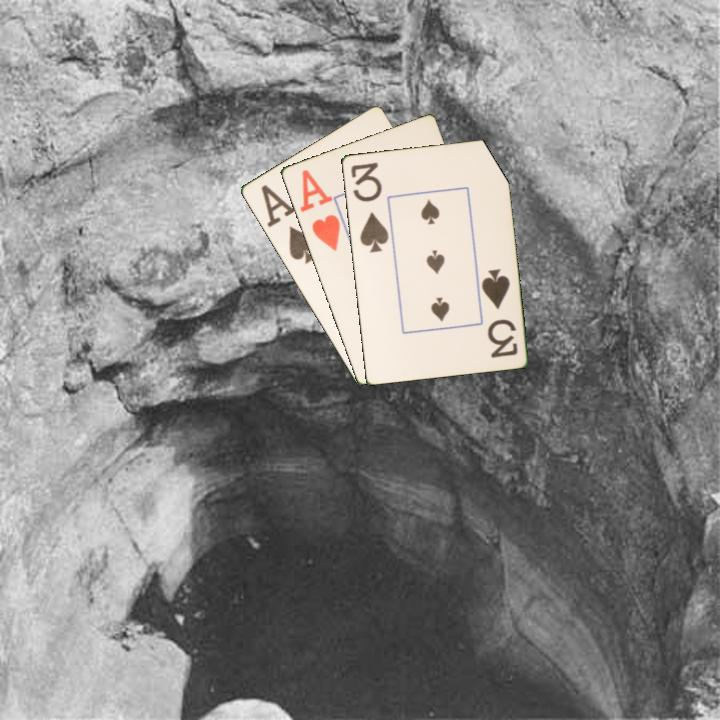3s: (347, 159, 391, 255), (477, 265, 520, 361)
Ah: (296, 166, 343, 254)
As: (263, 189, 319, 267)
